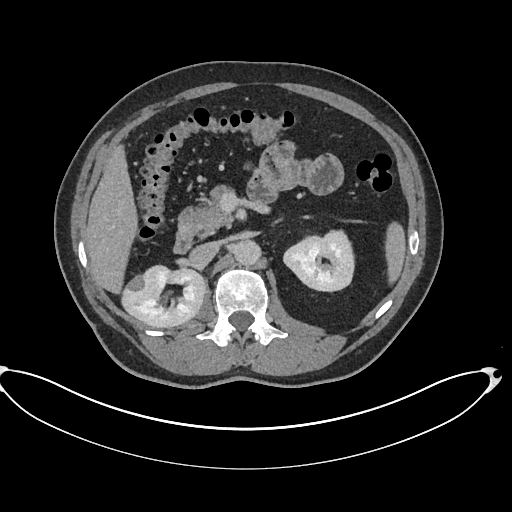Lesion: (128, 274, 146, 291)
